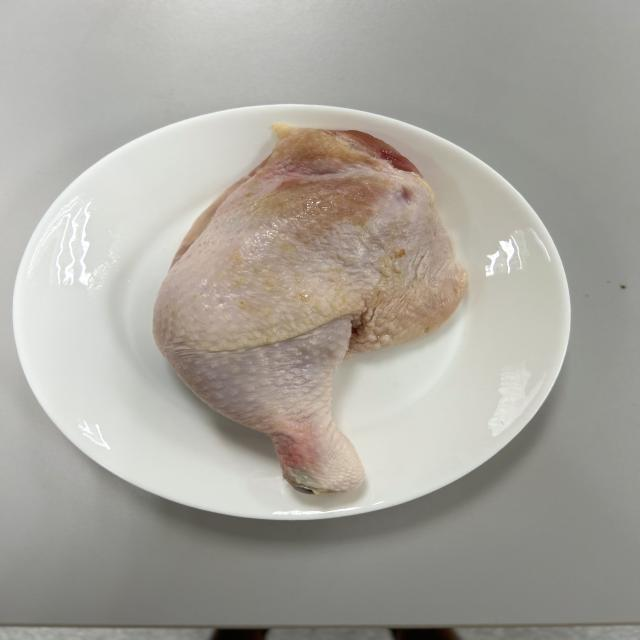quater: (149, 125, 449, 502)
